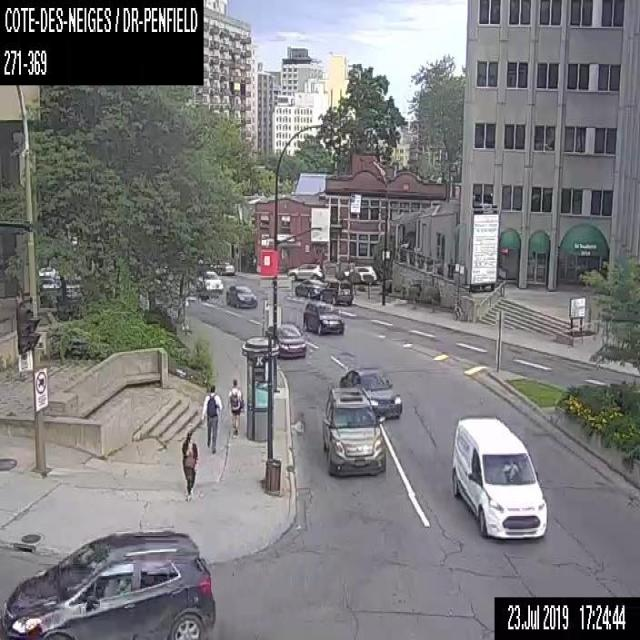pedestrian: (200, 384, 223, 453), (178, 433, 199, 499), (227, 374, 243, 434)
vehicle: (0, 528, 214, 639), (449, 413, 549, 540), (320, 386, 384, 475), (338, 367, 402, 418), (266, 321, 305, 357), (303, 300, 343, 334), (320, 280, 352, 304), (287, 261, 323, 281), (226, 284, 256, 307), (344, 264, 376, 284), (294, 278, 326, 298), (196, 269, 222, 292), (217, 261, 234, 274)
